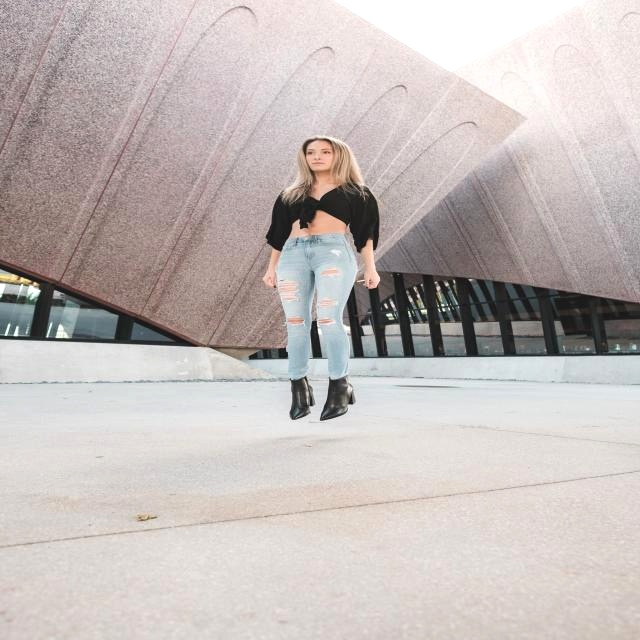Crop_Top: (291, 201, 350, 236)
low_neckline: (288, 180, 353, 208)
ripped_pants: (267, 234, 368, 379)
